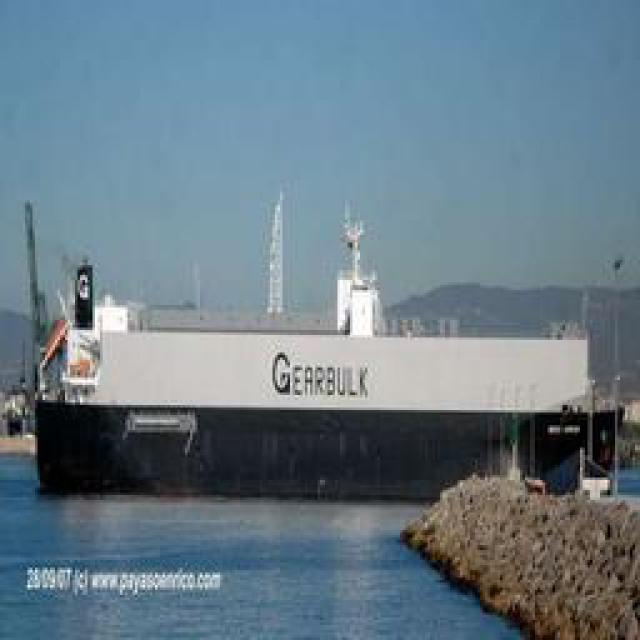Ship: (19, 161, 629, 491)
